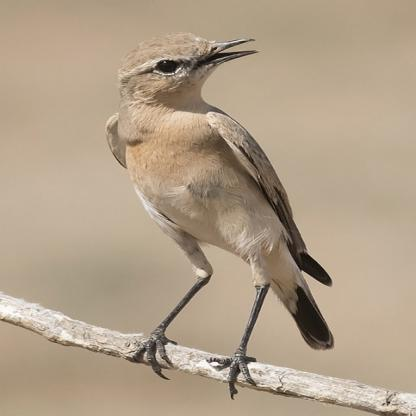Burung: (102, 31, 336, 395)
